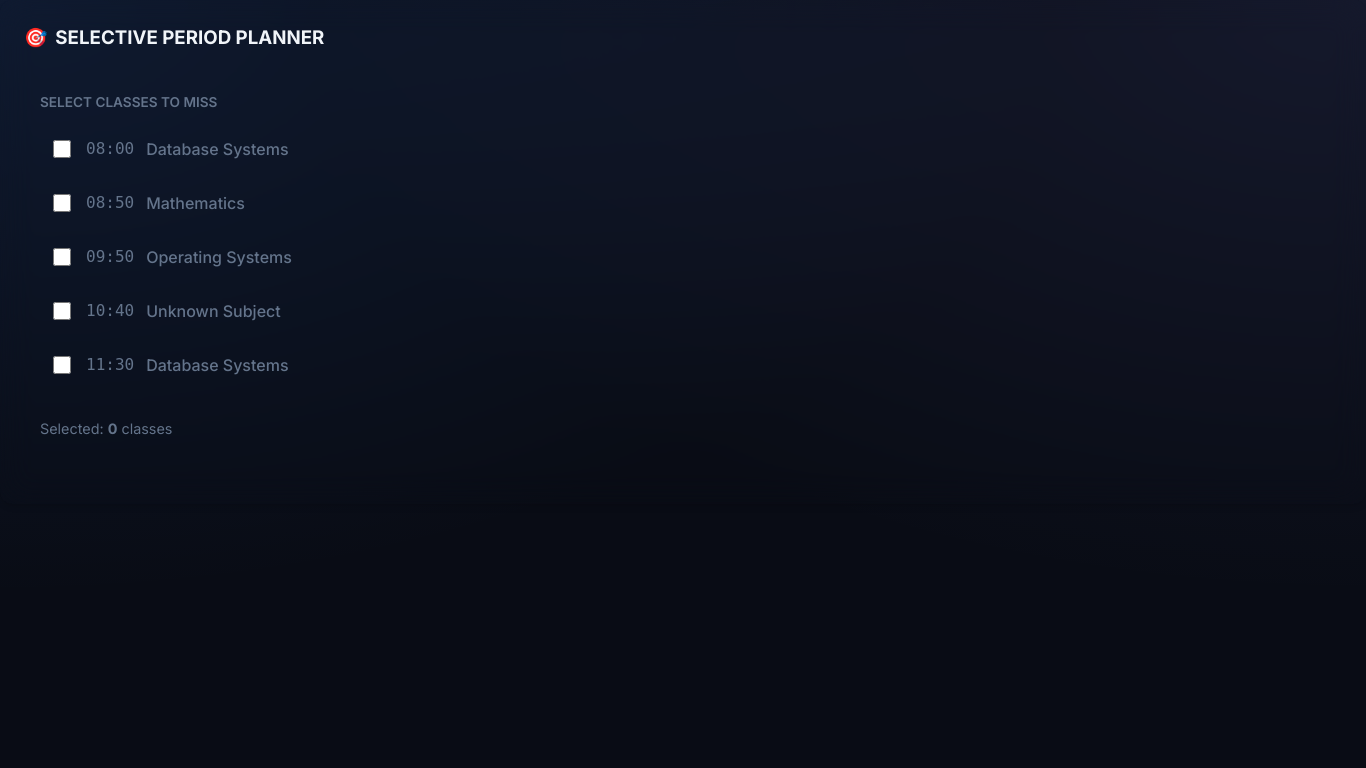
Test: SelectivePeriodPlanner › calculates properly when 1 period is selected
Note: Select DBMS (08:00)
Step 1. Click the checkbox labelled "08:00 Database Systems" → (62, 150), box [53,140,71,158]
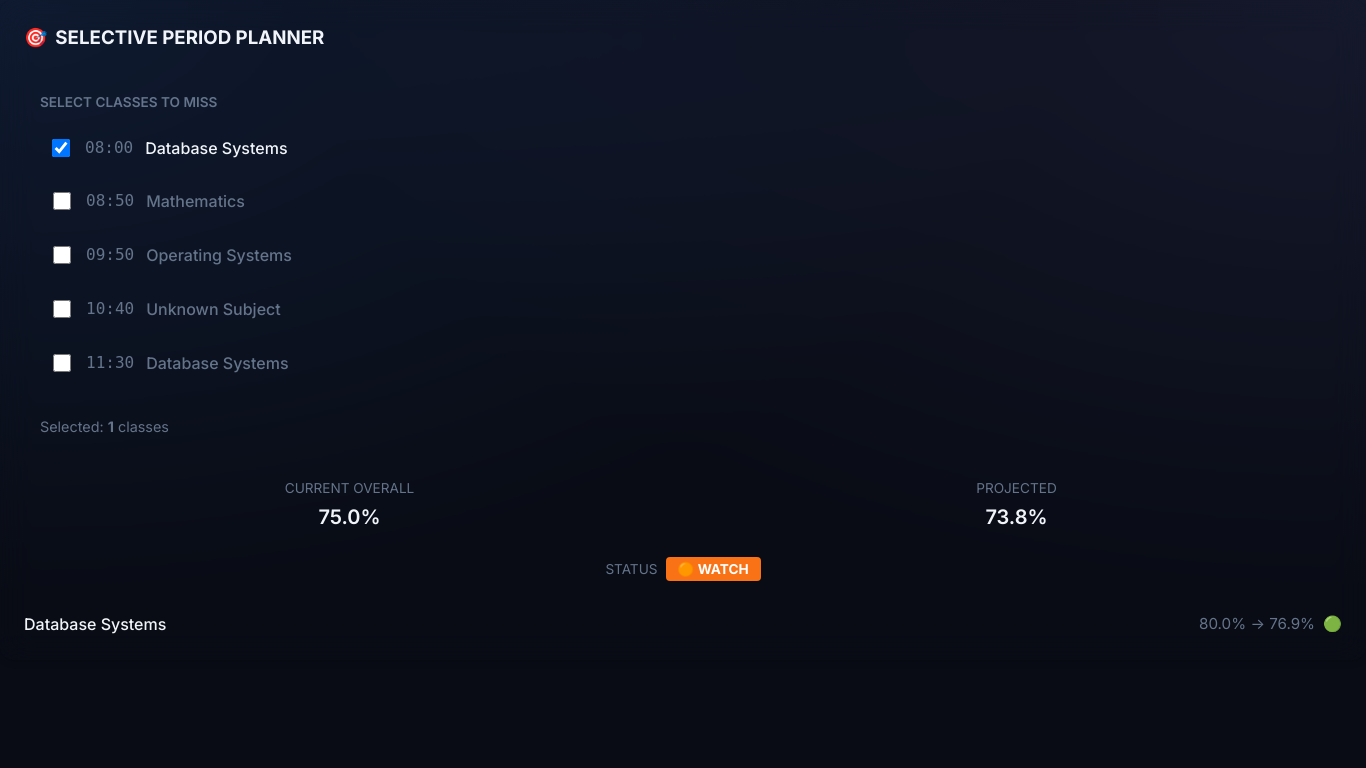
expect the text "1" is shown: met, box [108,418,114,436]
expect the text "75.0%" is shown: met, box [318,506,381,530]
expect the text "73.8%" is shown: met, box [985,506,1048,530]
